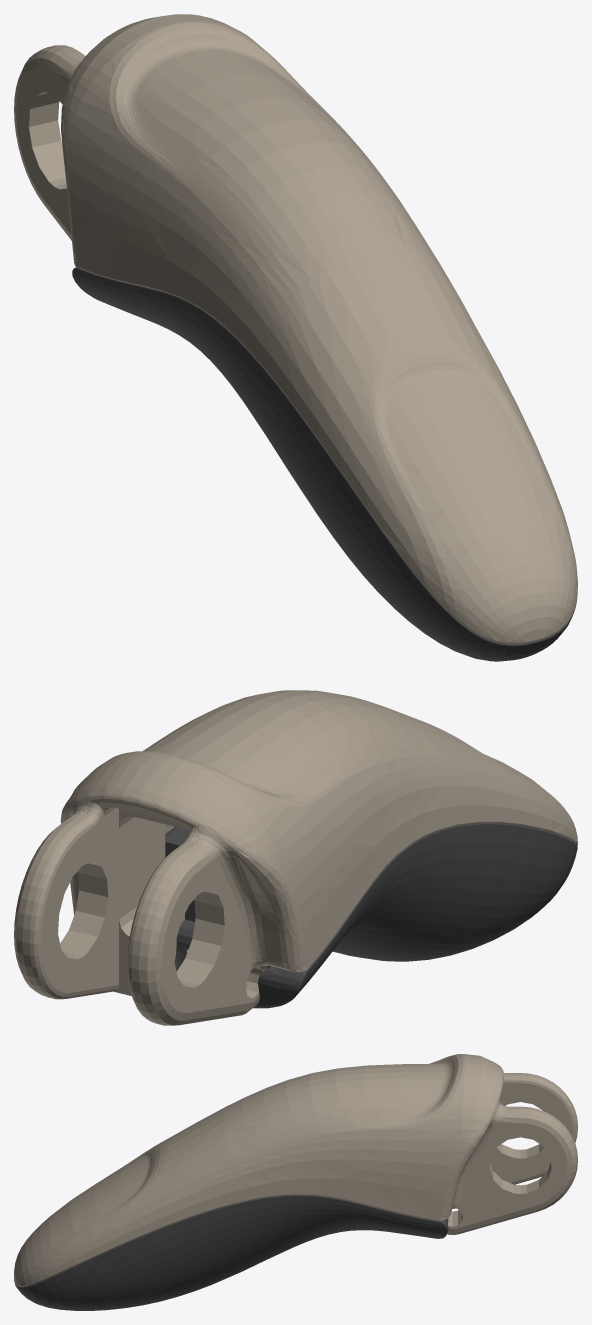
Rendered from hand2_link_5_2_visuals.obj.
3 renders of one model, top to bottom at view 1: azimuth 30°, elevation 25°; view 2: azimuth 150°, elevation 25°; view 3: azimuth 270°, elevation 25°, orthographic. The views are drawn at different scales.
Size of the model in its own units: 0.0158 by 0.0257 by 0.054.
